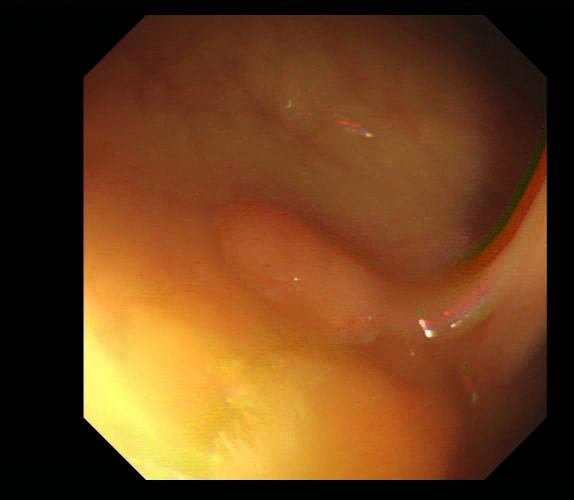polyp: (211, 198, 545, 348)
